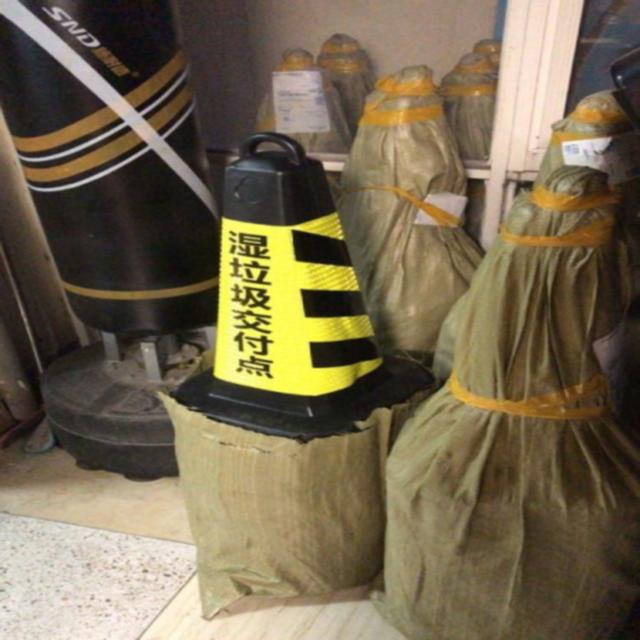reflective_cone: (172, 134, 437, 438)
